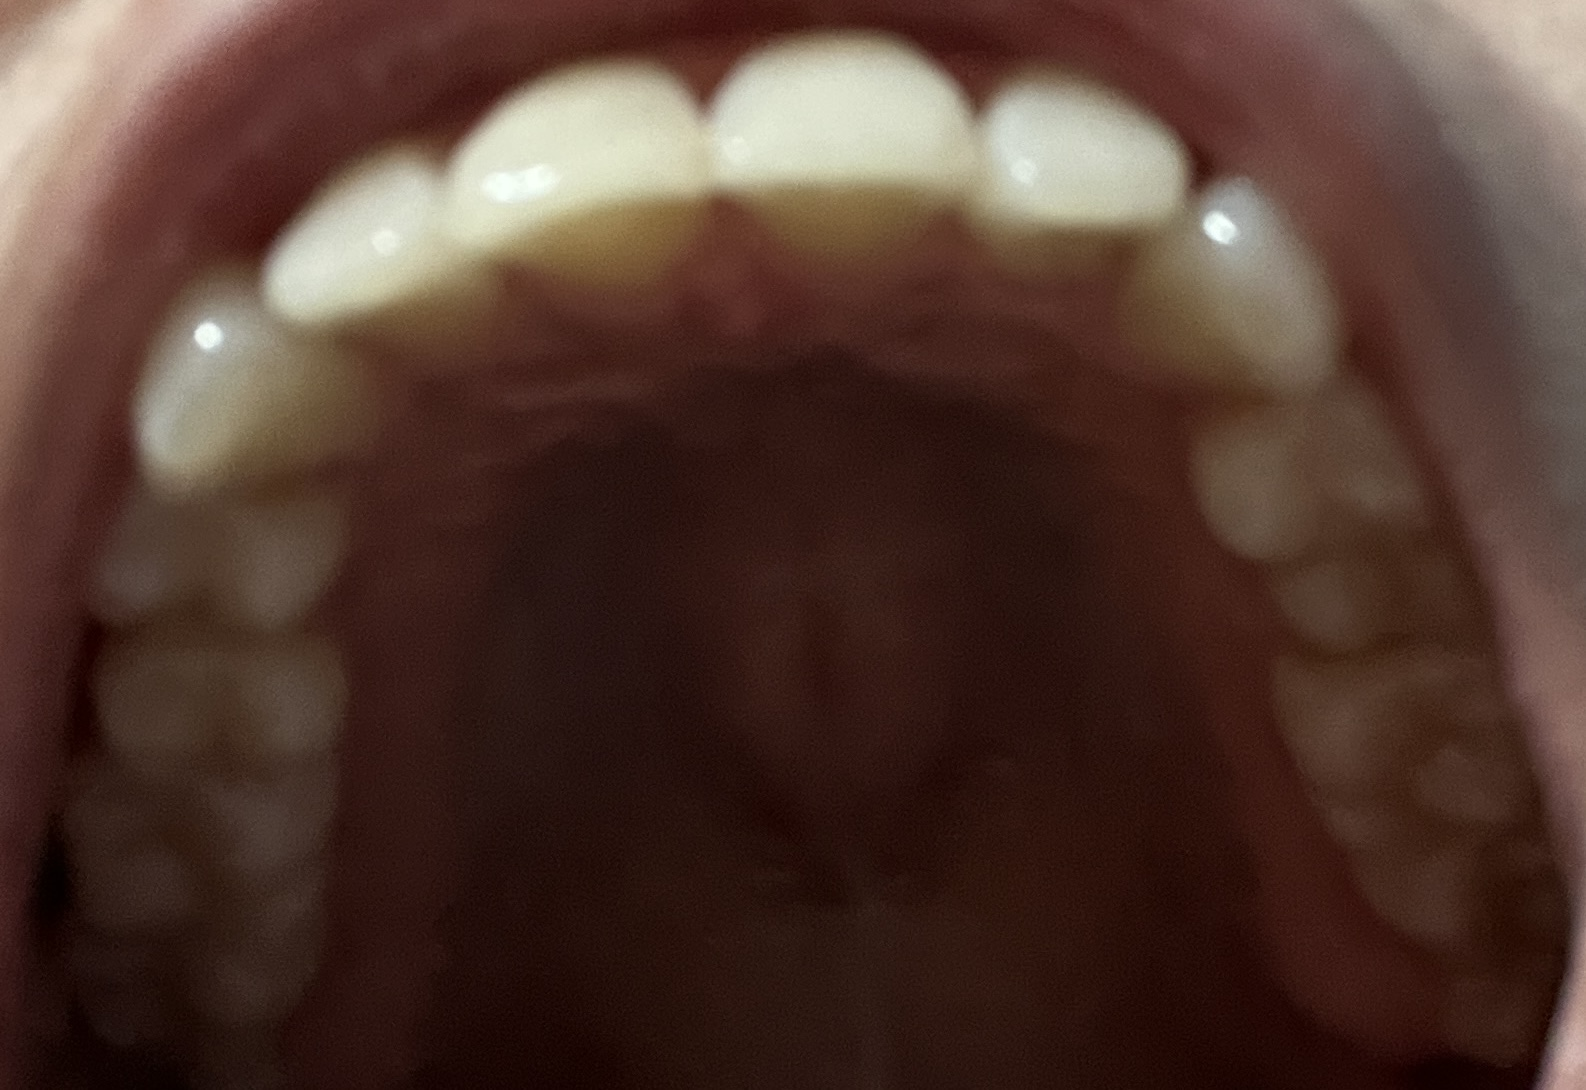teeth: (133, 262, 383, 498), (713, 47, 956, 259), (71, 769, 333, 948), (453, 68, 693, 262), (1136, 180, 1340, 402), (276, 142, 498, 345), (991, 77, 1194, 276), (111, 485, 346, 634), (1218, 394, 1439, 552), (116, 651, 331, 760)
